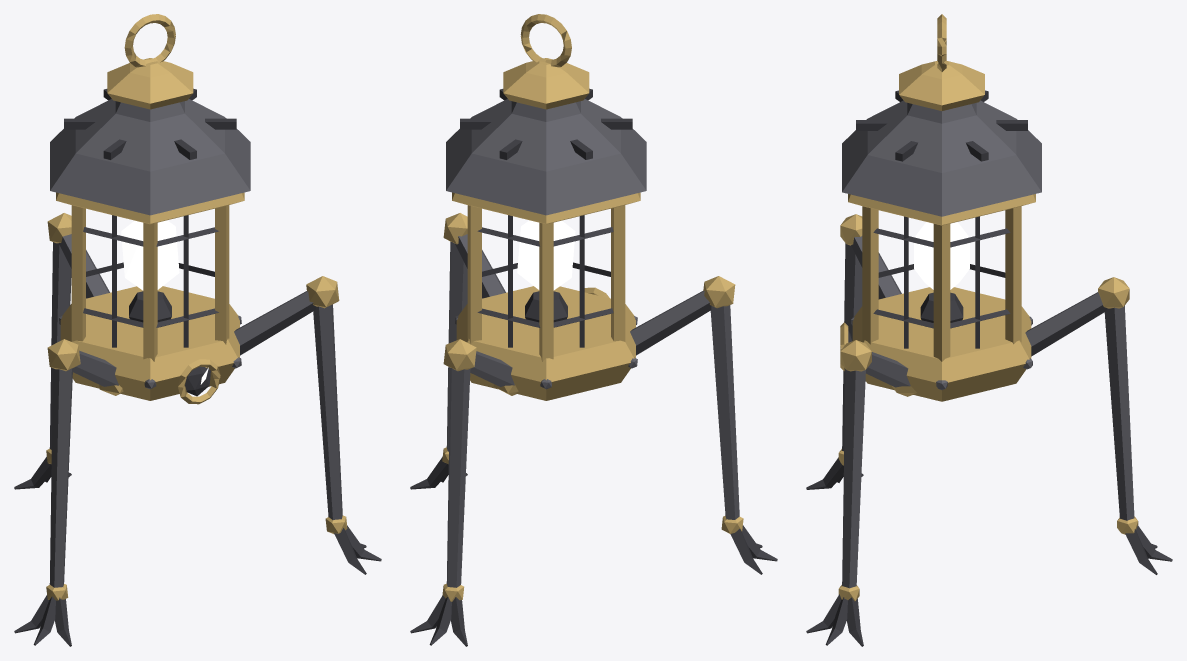
File: engine-lantern.glb
3 views of the same model, side by side, from view 1: azimuth 30°, elevation 25°; view 2: azimuth 150°, elevation 25°; view 3: azimuth 270°, elevation 25° (orthographic).
Parts seen in each view (by area): view 1: lantern_body; view 2: lantern_body; view 3: lantern_body.
Boxes of the visible parts, x1,y1,x2,y2 form: lantern_body: (14,14,381,646); lantern_body: (410,14,777,646); lantern_body: (806,14,1172,646).
Size of the model in its own units: 0.5894 by 0.8749 by 0.5331.
